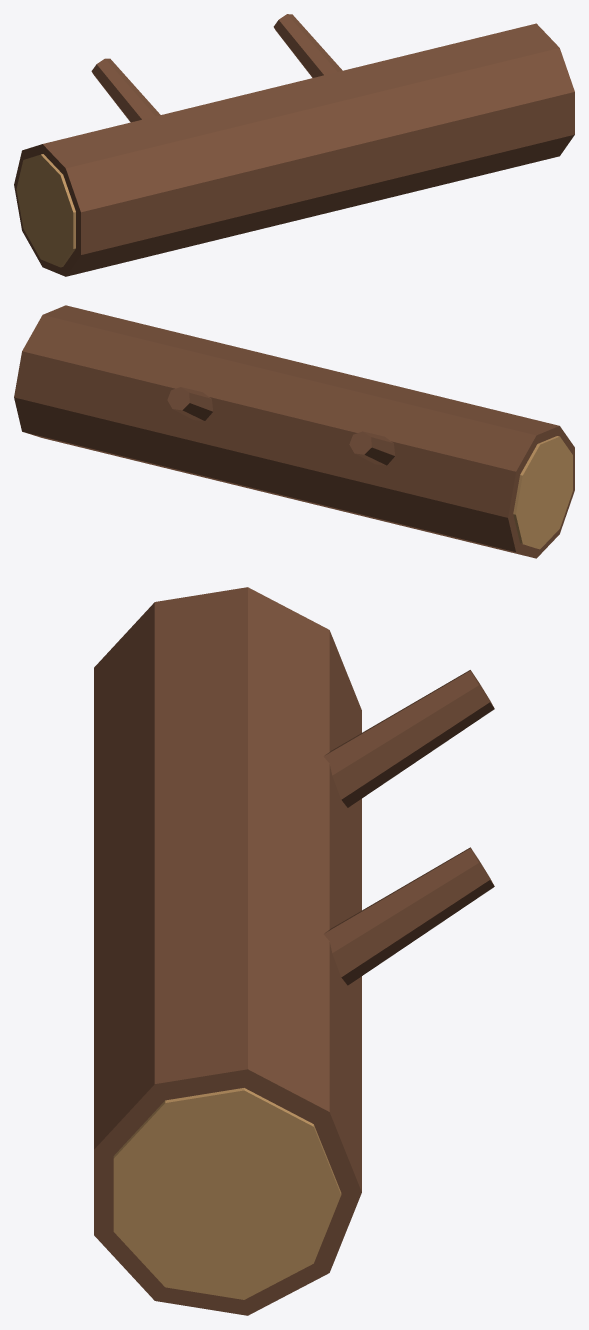
File: fallen_log_small.glb
3 renders of one model, top to bottom at view 1: azimuth 30°, elevation 25°; view 2: azimuth 150°, elevation 25°; view 3: azimuth 270°, elevation 25°, orthographic. The views are drawn at different scales.
Visible parts, largest first — view 1: fallen_log_small; view 2: fallen_log_small; view 3: fallen_log_small.
Part boxes in pixels (<box>): fallen_log_small: <box>14,14,574,276</box>; fallen_log_small: <box>14,305,574,558</box>; fallen_log_small: <box>94,587,494,1315</box>.
Bounding box in the file's own units: 1.92 × 0.5115 × 0.6675.
